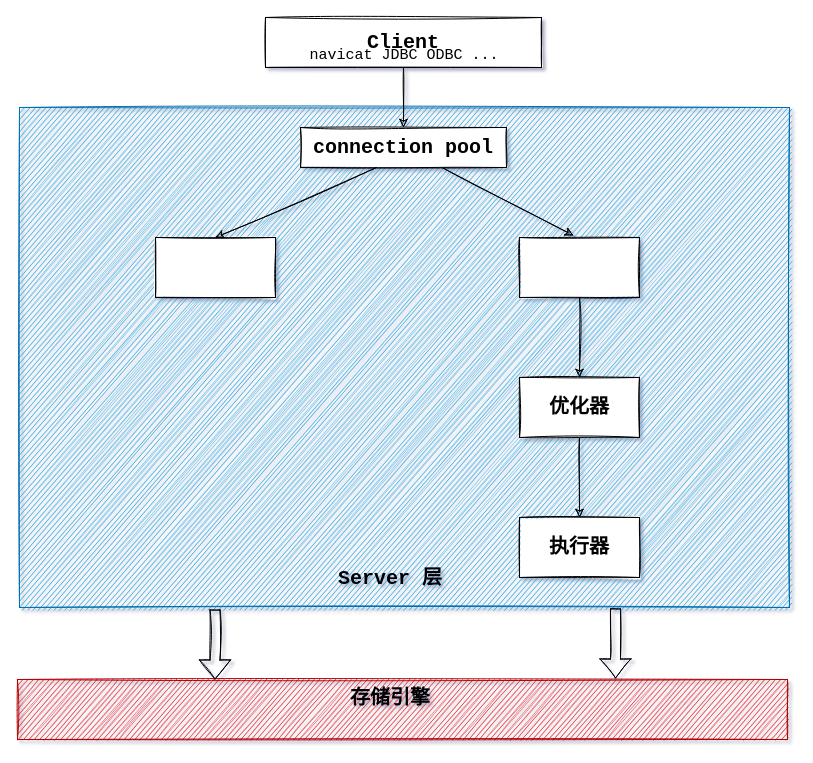
The diagram is 813 pixels wide and 763 high, and some of its shapes have lost their labels. The centre of each missing label's shape, as x and y in pixels:
cache: the point at 215,267
分析器: the point at 579,267
